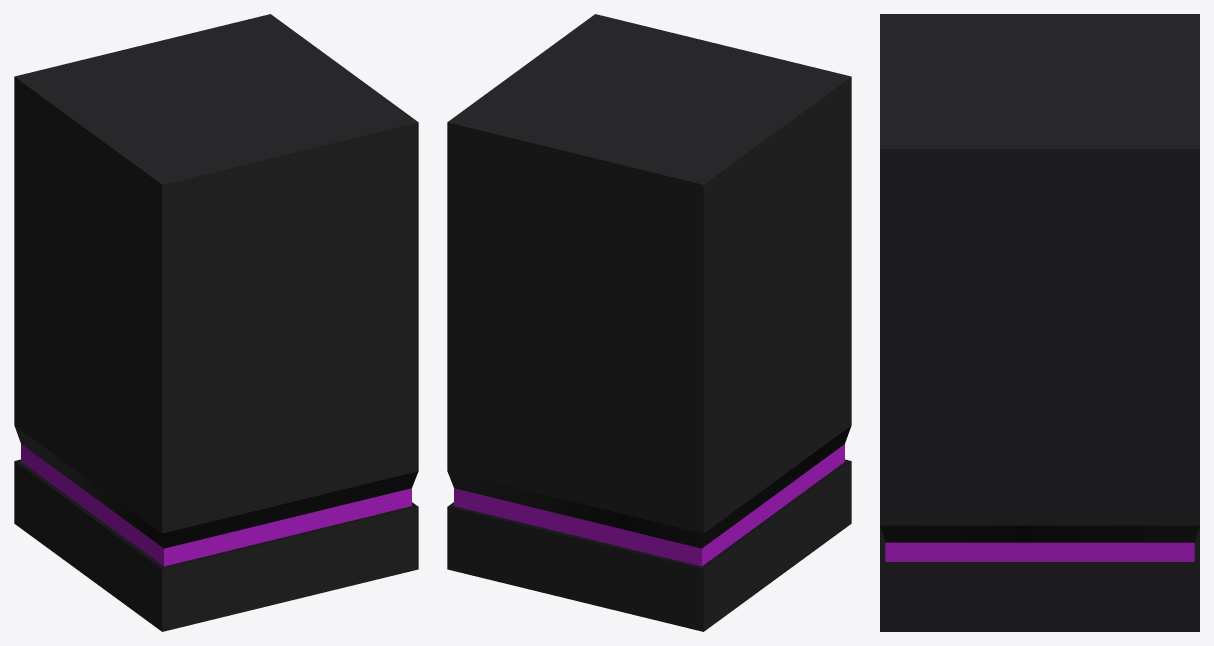
Rendered from Pillar_Medium.fbx.
3 views of the same model, side by side, from view 1: azimuth 30°, elevation 25°; view 2: azimuth 150°, elevation 25°; view 3: azimuth 270°, elevation 25° (orthographic). The views are drawn at different scales.
Parts seen in each view (by area): view 1: Pillar_Medium1; view 2: Pillar_Medium1; view 3: Pillar_Medium1.
Part boxes in pixels (x1,y1,x2,y2): Pillar_Medium1: [14, 14, 418, 631]; Pillar_Medium1: [447, 14, 851, 631]; Pillar_Medium1: [880, 14, 1199, 631].
Bounding box in the file's own units: 300 × 500 × 300.
